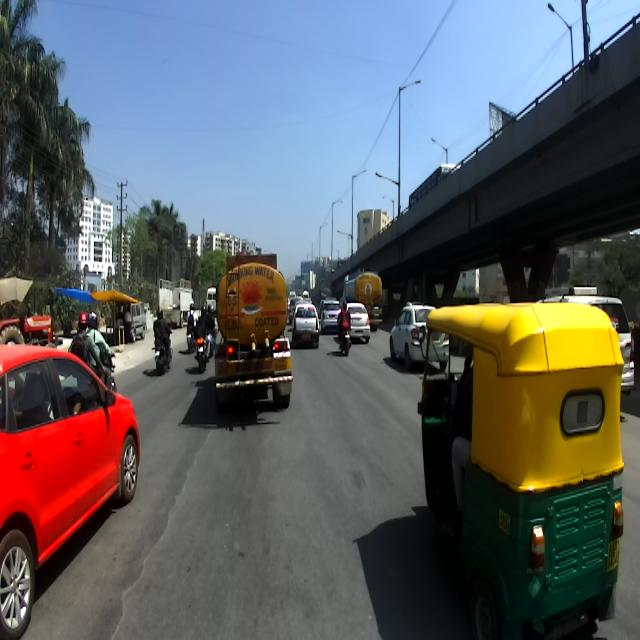auto ahead at: (414, 298, 628, 636)
car ahead at: (0, 337, 150, 639)
truck ahead at: (206, 246, 298, 415)
